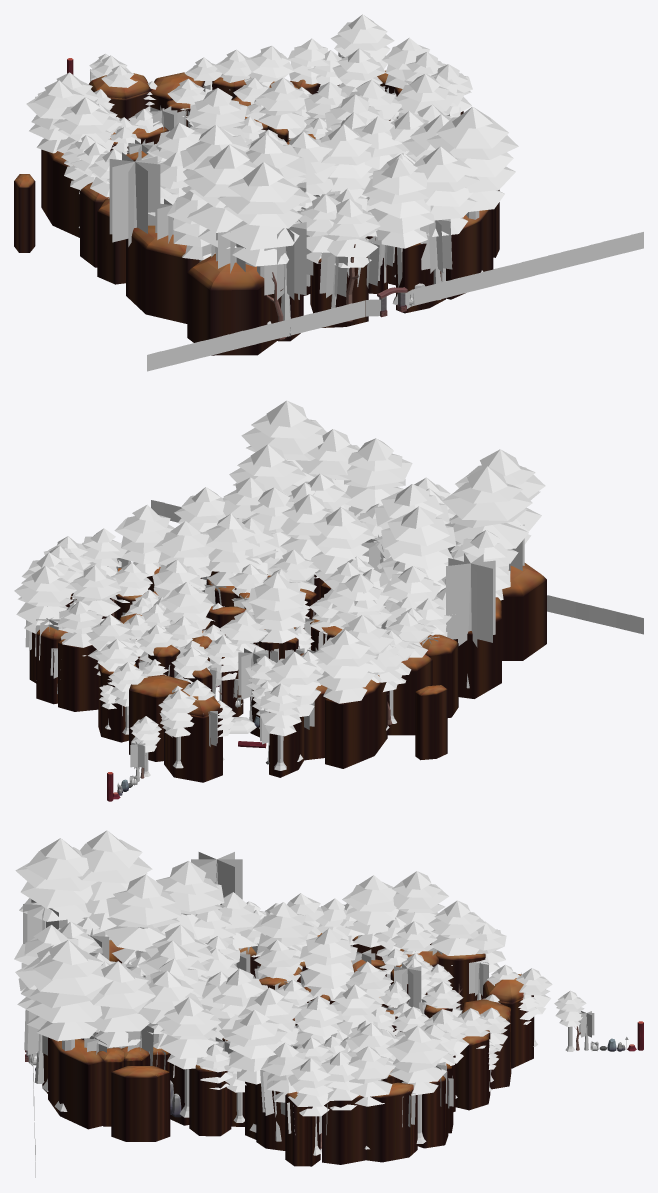
The model's file is paredesfloresta.fbx.
The picture shows the model from 3 angles, top to bottom: view 1: azimuth 30°, elevation 25°; view 2: azimuth 150°, elevation 25°; view 3: azimuth 270°, elevation 25°; orthographic projection.
Visible parts, largest first — view 1: Cylinder.460, Cylinder.346, Cylinder.391, Cylinder.368, Cylinder.350, Cylinder.347, Cylinder.364, Cylinder.167, Cylinder.344, Cylinder.395, Cylinder.426, Cylinder.189 (+36 smaller); view 2: Cylinder.460, Cylinder.347, Cylinder.350, Cylinder.336, Cylinder.368, Cylinder.391, Cylinder.426, Cylinder.337, Cylinder.150, Cylinder.271, Cylinder.286, Cylinder.277 (+44 smaller); view 3: Cylinder.460, Cylinder.391, Cylinder.346, Cylinder.329, Cylinder.347, Cylinder.363, Cylinder.210, Cylinder.286, Cylinder.150, Cylinder.336, Cylinder.277, Cylinder.189 (+49 smaller).
Part boxes in pixels (left/top/right/bottom): Cylinder.460: left=14, top=70, right=499, bottom=355; Cylinder.346: left=217, top=162, right=309, bottom=324; Cylinder.391: left=426, top=106, right=518, bottom=272; Cylinder.368: left=362, top=157, right=434, bottom=304; Cylinder.350: left=109, top=151, right=160, bottom=246; Cylinder.347: left=183, top=144, right=257, bottom=248; Cylinder.364: left=413, top=146, right=479, bottom=282; Cylinder.167: left=320, top=124, right=373, bottom=197; Cylinder.344: left=322, top=198, right=380, bottom=267; Cylinder.395: left=264, top=222, right=306, bottom=336; Cylinder.426: left=26, top=80, right=84, bottom=153; Cylinder.189: left=53, top=97, right=117, bottom=166; Cylinder.460: left=29, top=563, right=546, bottom=782; Cylinder.347: left=442, top=466, right=532, bottom=563; Cylinder.350: left=446, top=553, right=495, bottom=688; Cylinder.336: left=380, top=506, right=456, bottom=592; Cylinder.368: left=338, top=438, right=412, bottom=517; Cylinder.391: left=241, top=400, right=326, bottom=486; Cylinder.426: left=313, top=629, right=377, bottom=703; Cylinder.337: left=309, top=507, right=374, bottom=580; Cylinder.150: left=248, top=572, right=306, bottom=643; Cylinder.271: left=203, top=514, right=260, bottom=585; Cylinder.286: left=14, top=565, right=76, bottom=680; Cylinder.277: left=114, top=504, right=174, bottom=576; Cylinder.460: left=42, top=933, right=533, bottom=1166; Cylinder.391: left=23, top=940, right=113, bottom=1111; Cylinder.346: left=15, top=838, right=97, bottom=928; Cylinder.329: left=104, top=874, right=181, bottom=964; Cylinder.347: left=78, top=830, right=152, bottom=940; Cylinder.363: left=84, top=961, right=155, bottom=1048; Cylinder.210: left=157, top=997, right=221, bottom=1117; Cylinder.286: left=386, top=1025, right=448, bottom=1143; Cylinder.150: left=299, top=928, right=357, bottom=1000; Cylinder.336: left=156, top=861, right=224, bottom=944; Cylinder.277: left=223, top=1009, right=287, bottom=1132; Cylinder.189: left=342, top=875, right=398, bottom=947.
Bounding box in the file's own units: 89308 × 34214 × 99239.
